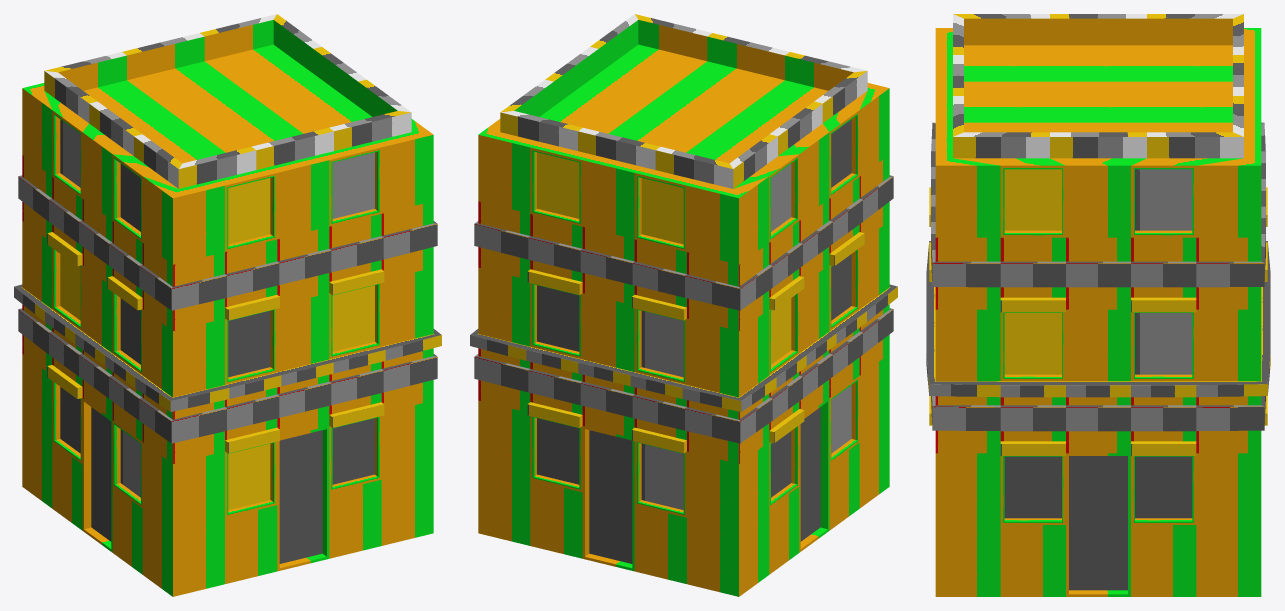
The model's file is building1.fbx.
The picture shows the model from 3 angles, left to right: view 1: azimuth 30°, elevation 25°; view 2: azimuth 150°, elevation 25°; view 3: azimuth 270°, elevation 25°; orthographic projection. The views are drawn at different scales.
Visible parts, largest first — view 1: Cube; view 2: Cube; view 3: Cube.
Boxes of the visible parts, <box> form: Cube: <box>14,14,441,596</box>; Cube: <box>470,14,897,596</box>; Cube: <box>926,14,1270,596</box>.
Size of the model in its own units: 6.73 by 9.77 by 6.73.
